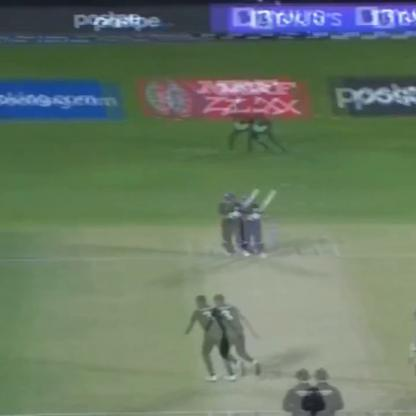bat: (246, 186, 276, 222)
pitch: (172, 238, 401, 416)
